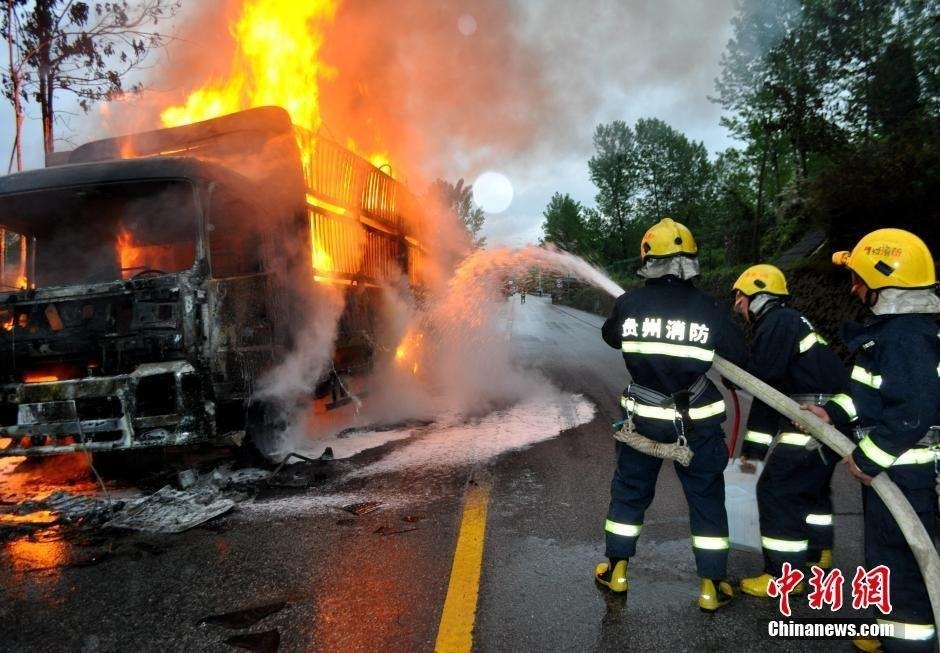fire: (135, 0, 528, 403)
